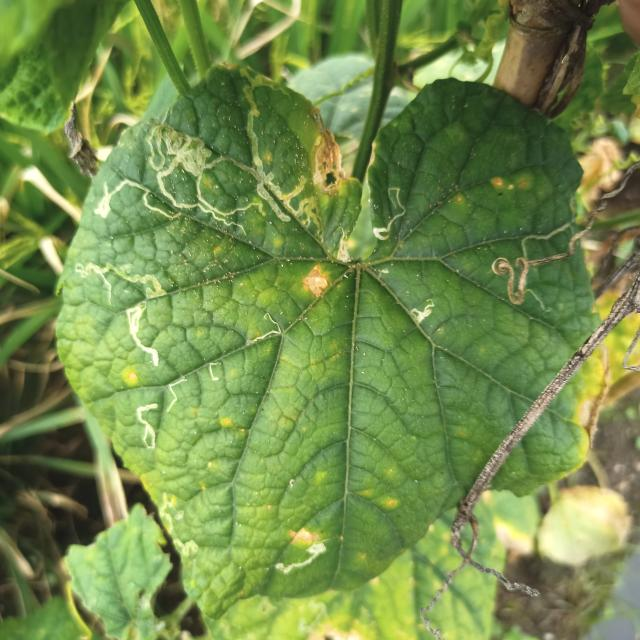disease_cucumber: (300, 263, 330, 306), (286, 525, 320, 552), (491, 172, 528, 196), (125, 370, 142, 386)
